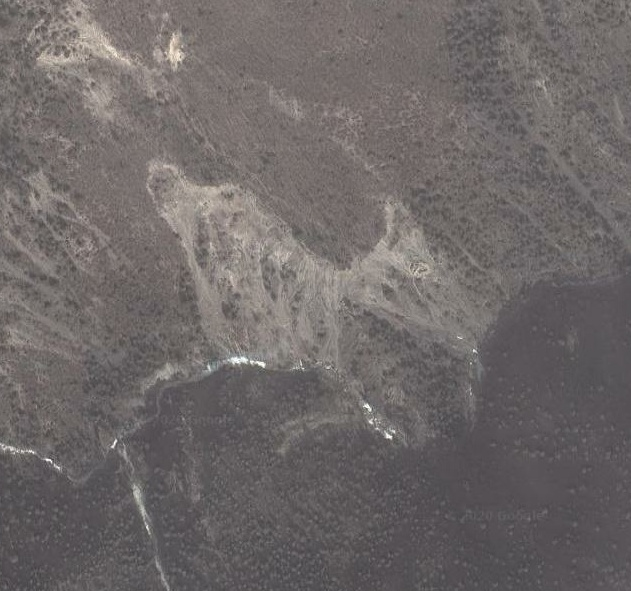slope: (141, 154, 488, 375), (35, 0, 137, 73), (155, 16, 193, 77)
